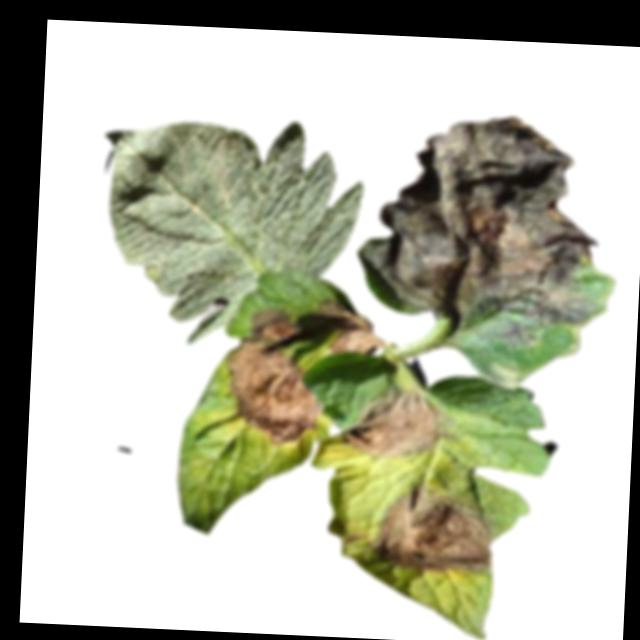Late_blight: (353, 109, 630, 356), (223, 305, 327, 454), (368, 480, 498, 576), (342, 382, 447, 462), (318, 297, 392, 358), (477, 359, 520, 388)
healthy: (102, 114, 368, 353)
